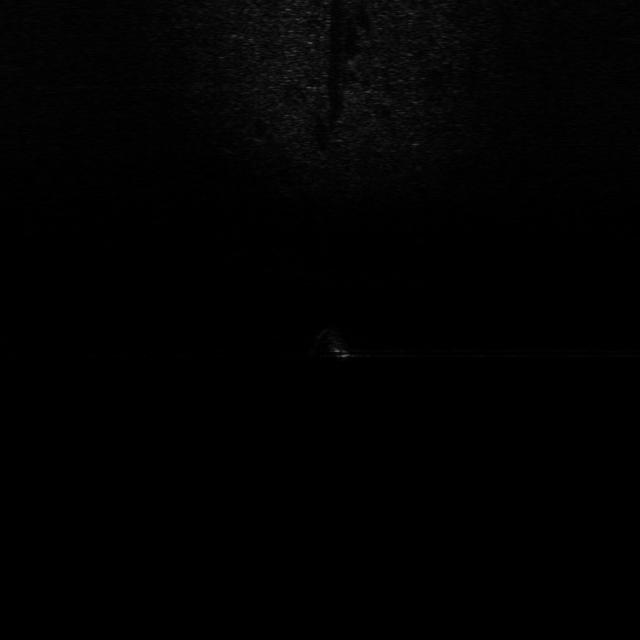human body: (314, 319, 354, 367)
